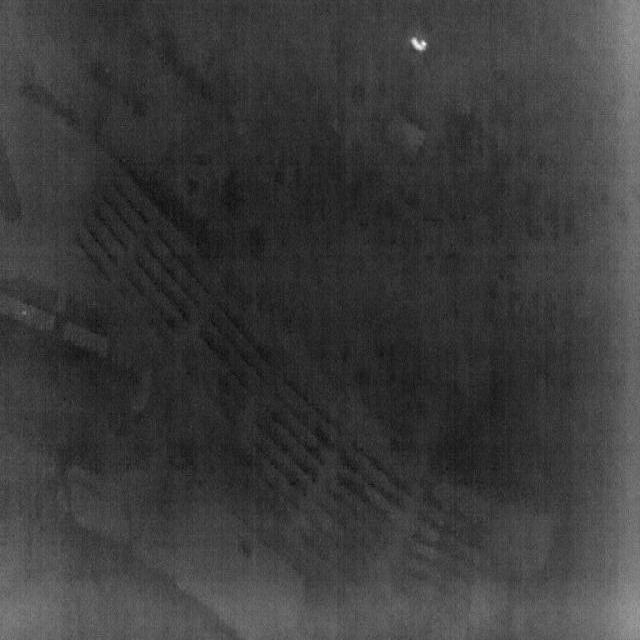deer: (410, 36, 428, 52)
